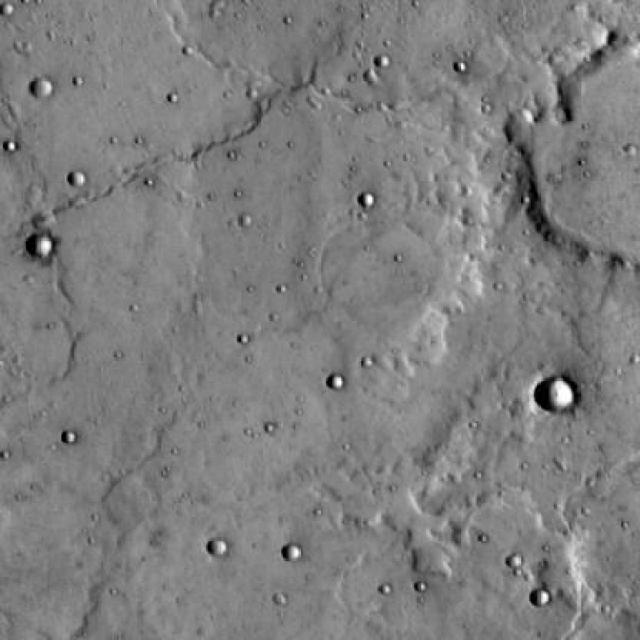crater: (321, 222, 437, 323), (538, 376, 578, 412), (24, 238, 54, 262), (28, 77, 54, 98), (370, 51, 390, 68), (208, 538, 226, 554)
